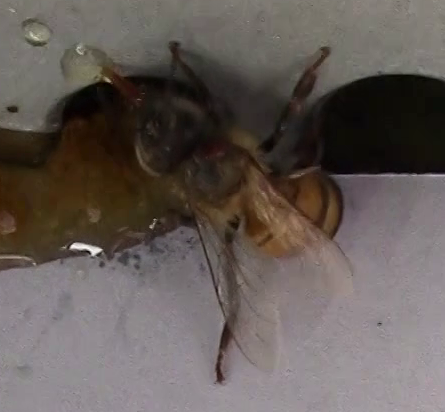Varroa destructor: (196, 134, 231, 159)
